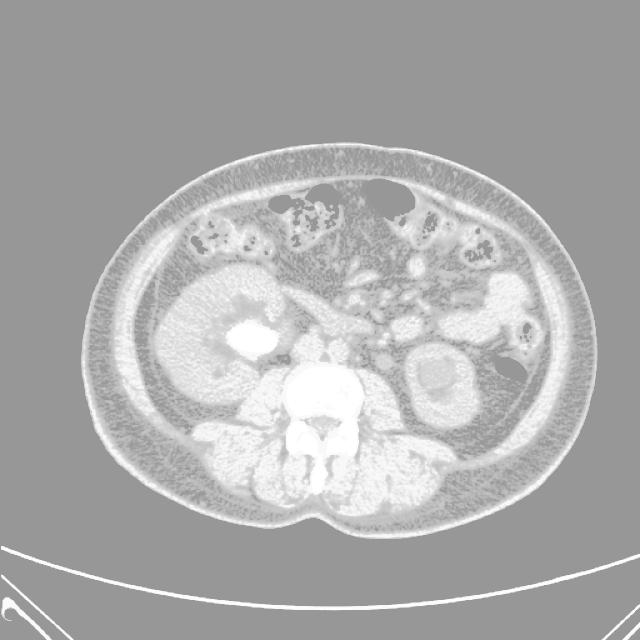STONE: (172, 116, 547, 402)
